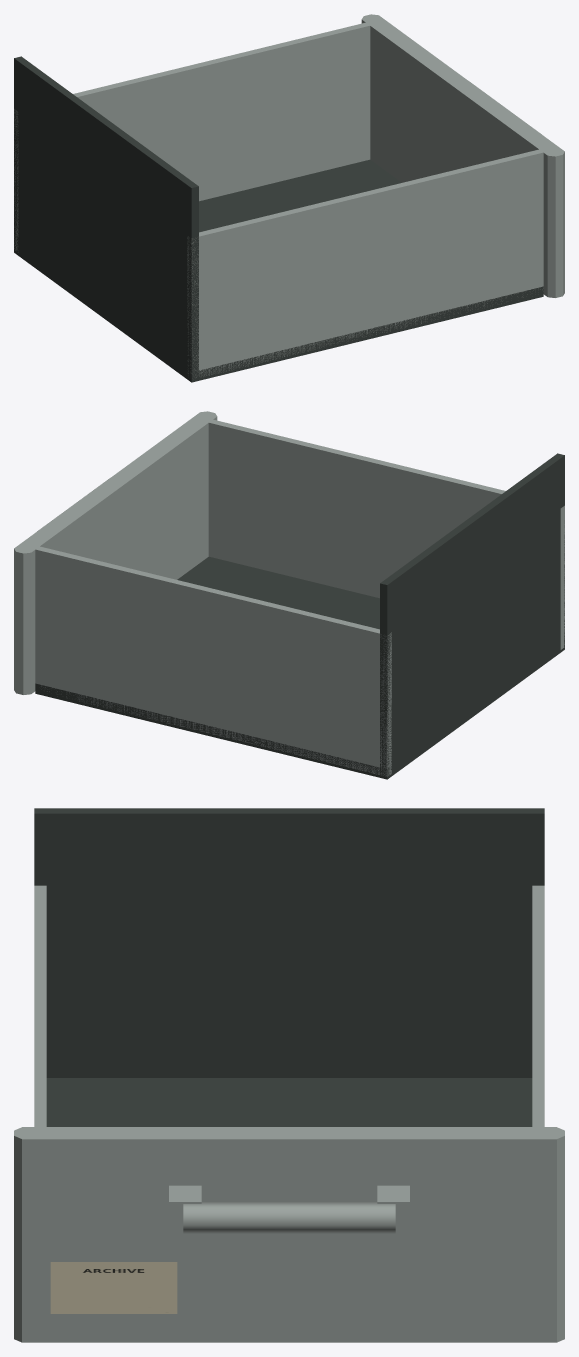
The model's file is SM_ArchiveProps_FireDrawer_LOD2.fbx.
3 views of the same model, one above another, from view 1: azimuth 30°, elevation 25°; view 2: azimuth 150°, elevation 25°; view 3: azimuth 270°, elevation 25° (orthographic). The views are drawn at different scales.
Visible parts, largest first — view 1: SM_ArchiveProps_FireDrawer_LOD2; view 2: SM_ArchiveProps_FireDrawer_LOD2; view 3: SM_ArchiveProps_FireDrawer_LOD2.
Part boxes in pixels (<box>): SM_ArchiveProps_FireDrawer_LOD2: <box>14,14,564,382</box>; SM_ArchiveProps_FireDrawer_LOD2: <box>14,411,564,779</box>; SM_ArchiveProps_FireDrawer_LOD2: <box>14,808,564,1342</box>.
Size of the model in its own units: 0.331 by 0.27 by 0.151.
